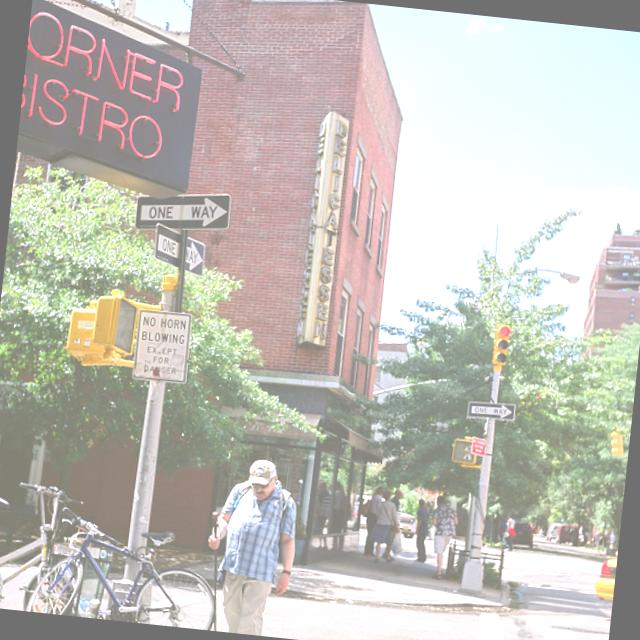Vehicle: (588, 504, 622, 619), (554, 523, 580, 548), (512, 520, 536, 546), (394, 511, 417, 538), (544, 524, 560, 544)
